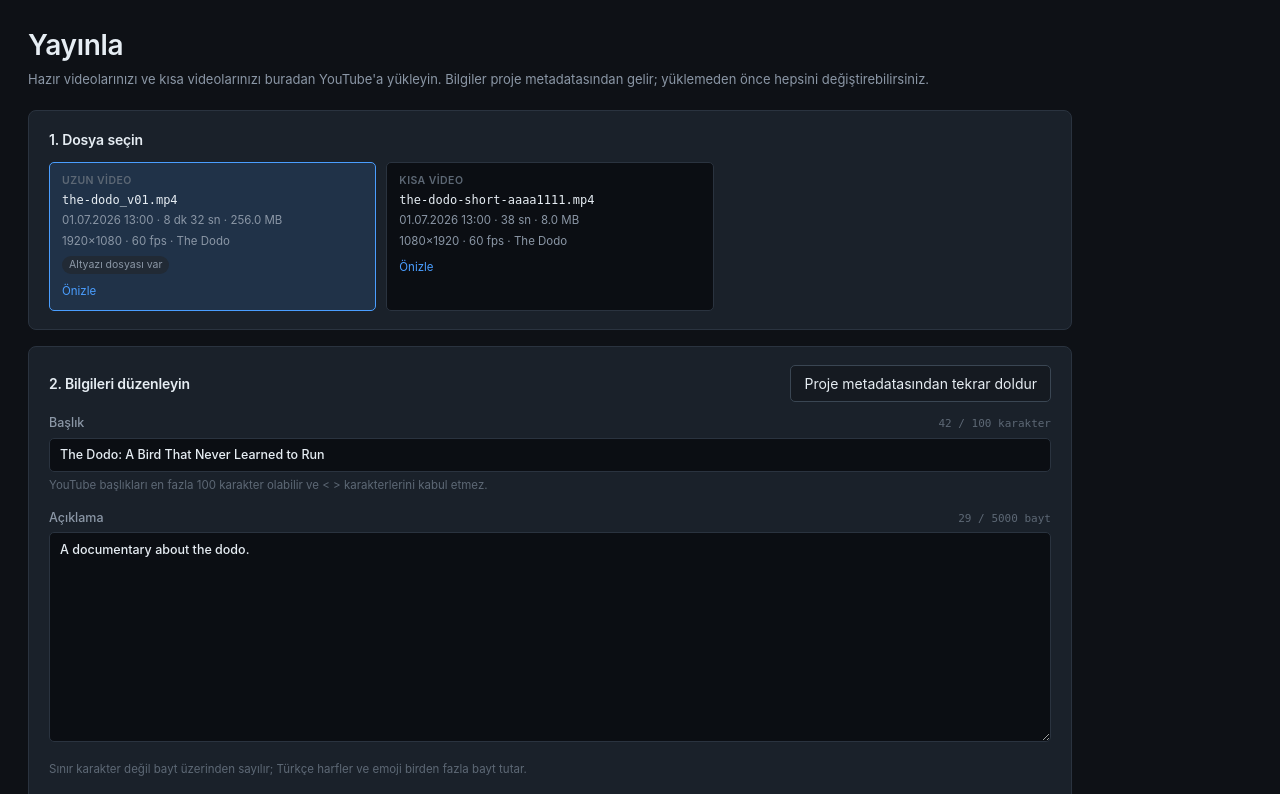
Scenario: media selection › loads that file’s draft when another card is picked
Expected: the text "the-dodo_v01.mp4" is shown, [62,191,178,209]
Click the text "the-dodo-short-aaaa1111.mp4" at (497, 200), box [399,191,594,209]
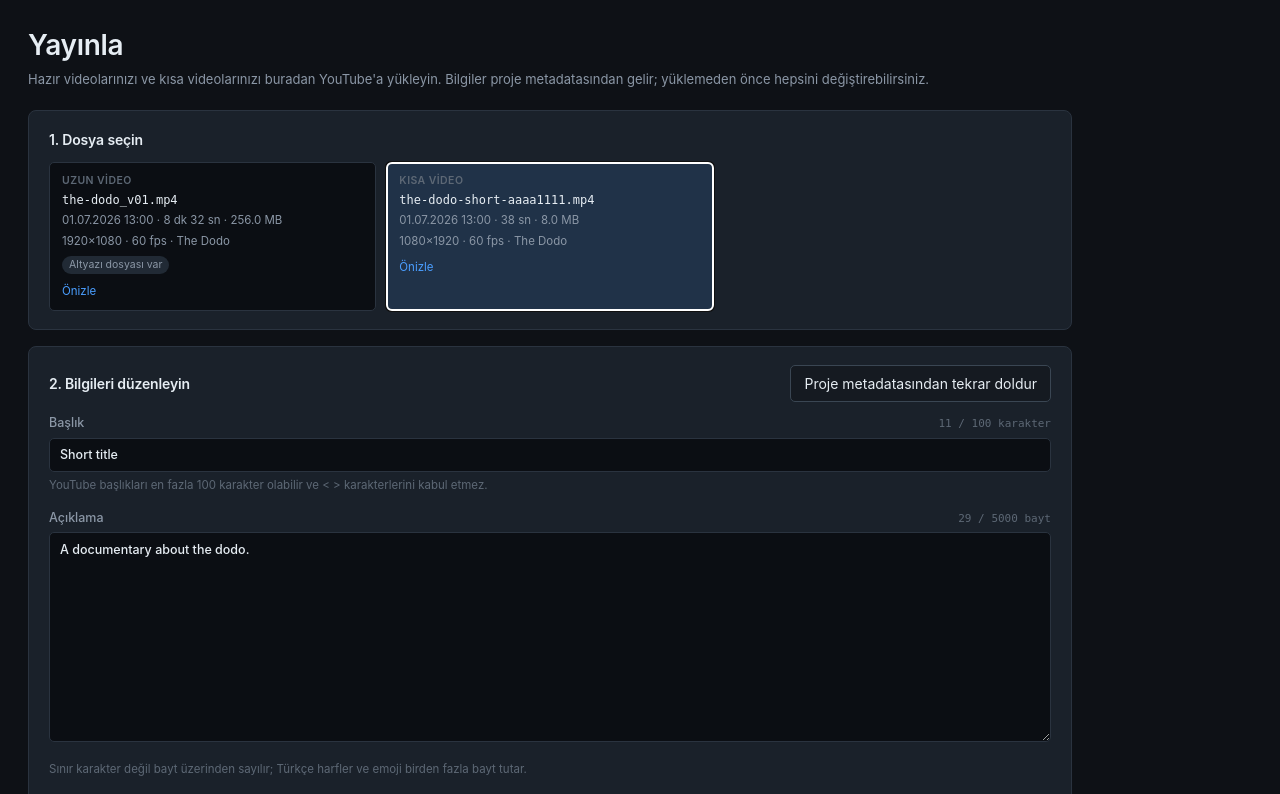
Now the field labelled "Başlık" holds "Short title", box [49,438,1051,472]
